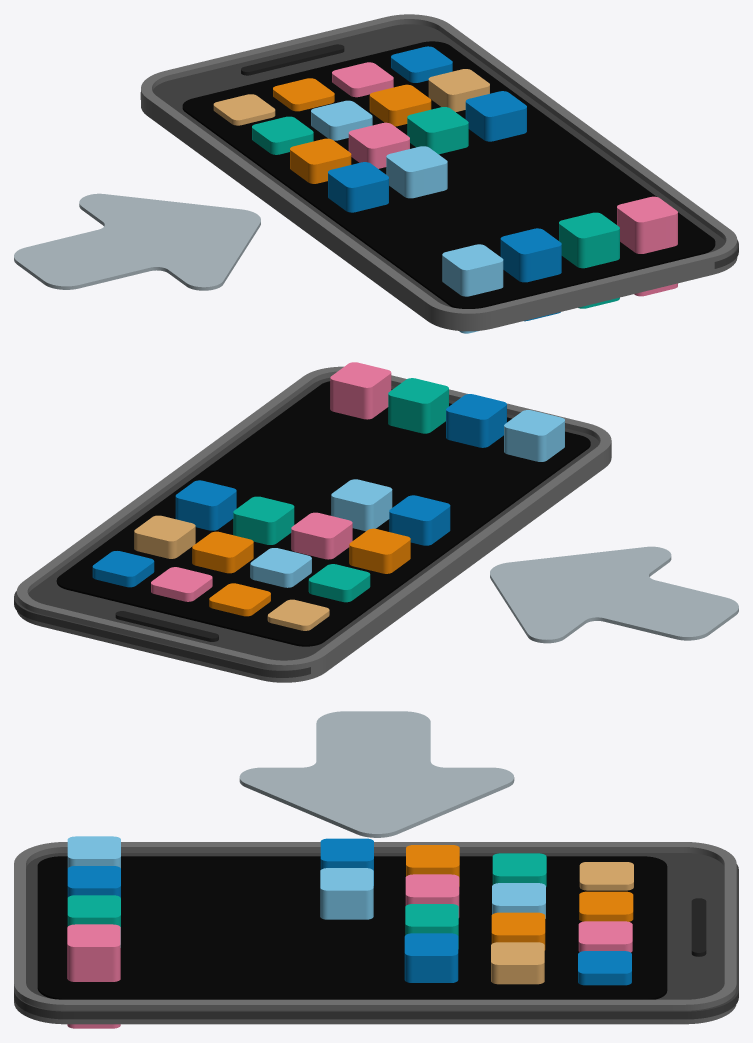
The model's file is emoji_u1f4f2.glb.
3 renders of one model, top to bottom at view 1: azimuth 30°, elevation 25°; view 2: azimuth 150°, elevation 25°; view 3: azimuth 270°, elevation 25°, orthographic. The views are drawn at different scales.
Parts seen in each view (by area): view 1: emoji_u1f4f2; view 2: emoji_u1f4f2; view 3: emoji_u1f4f2.
Boxes of the visible parts, x1,y1,x2,y2 form: emoji_u1f4f2: [14, 14, 738, 333]; emoji_u1f4f2: [14, 362, 738, 682]; emoji_u1f4f2: [14, 711, 738, 1028].
Bounding box in the file's own units: 0.0334 × 0.0042 × 0.0338.
